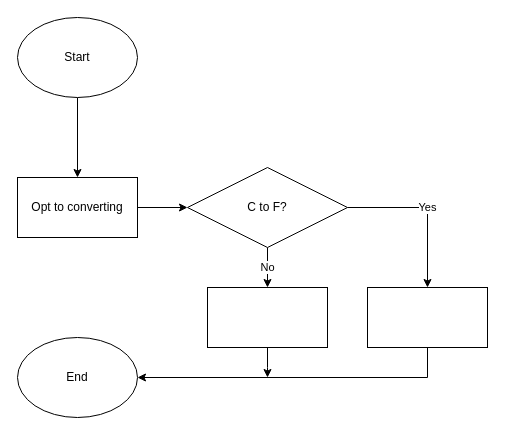
Some shapes in this 505 by 435 pixel diagram are drawn without their labels. Here are the shapes that lost their labels. From the top down, the box of each, then its label:
(206, 286, 328, 348): C = (F - 32)*5/9
(366, 286, 488, 348): F = C*9/5 + 32
